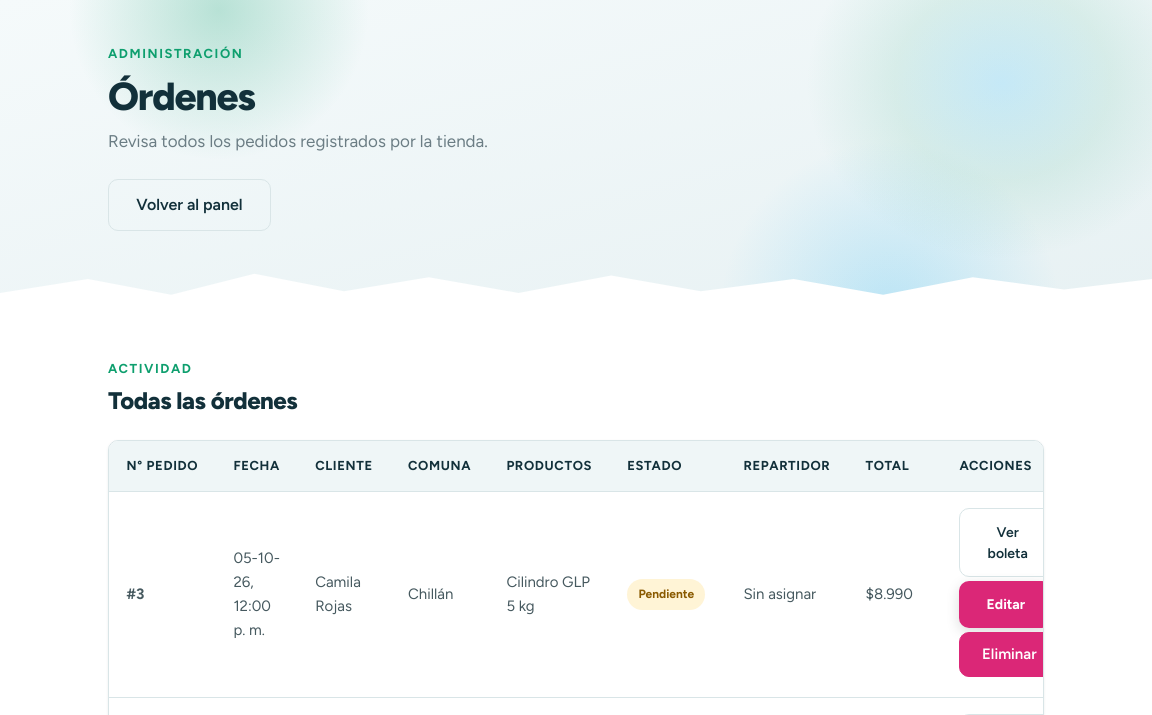
Test: Órdenes del administrador › edita estado y asigna repartidor activo
The width and height of the screenshot is (1152, 715).
Click the button "Editar" at (1006, 605), box 959,581 -> 1052,628
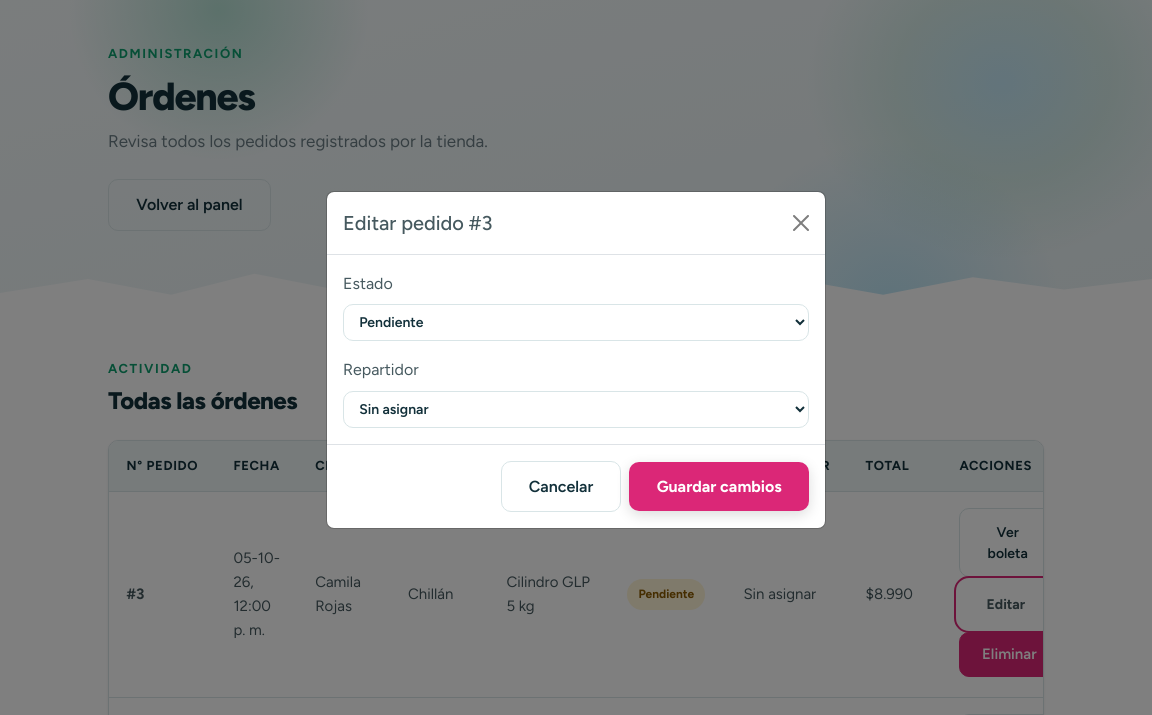
Select "En camino" in the dropdown labelled "Estado" at (576, 323), box 343,304 -> 809,341
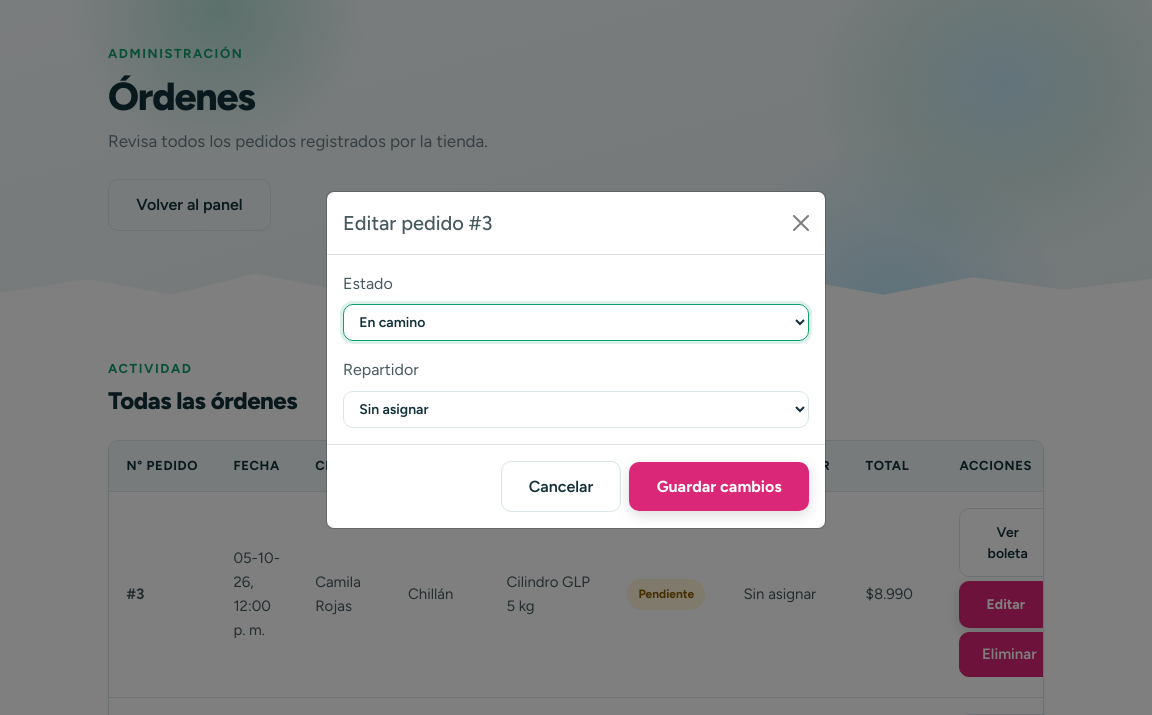
Select "Matías Vera - Repartidor" in the dropdown labelled "Repartidor" at (576, 409), box 343,391 -> 809,428
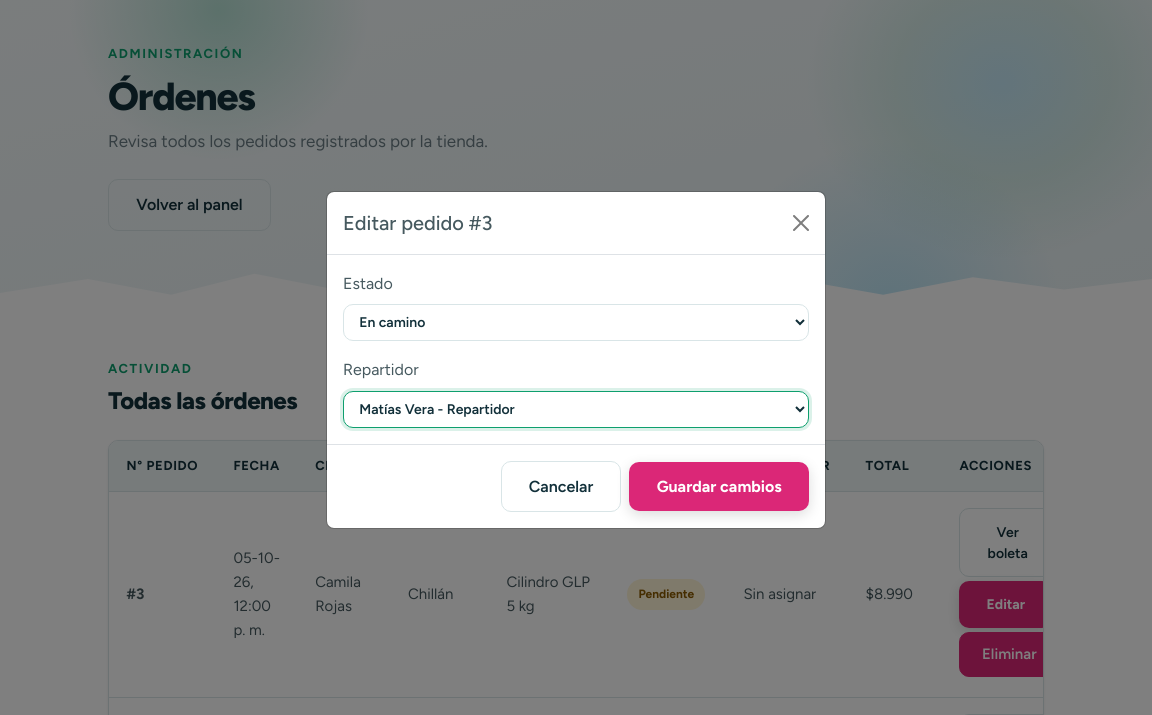
Click the button "Guardar cambios" at (719, 487), box 629,462 -> 809,511
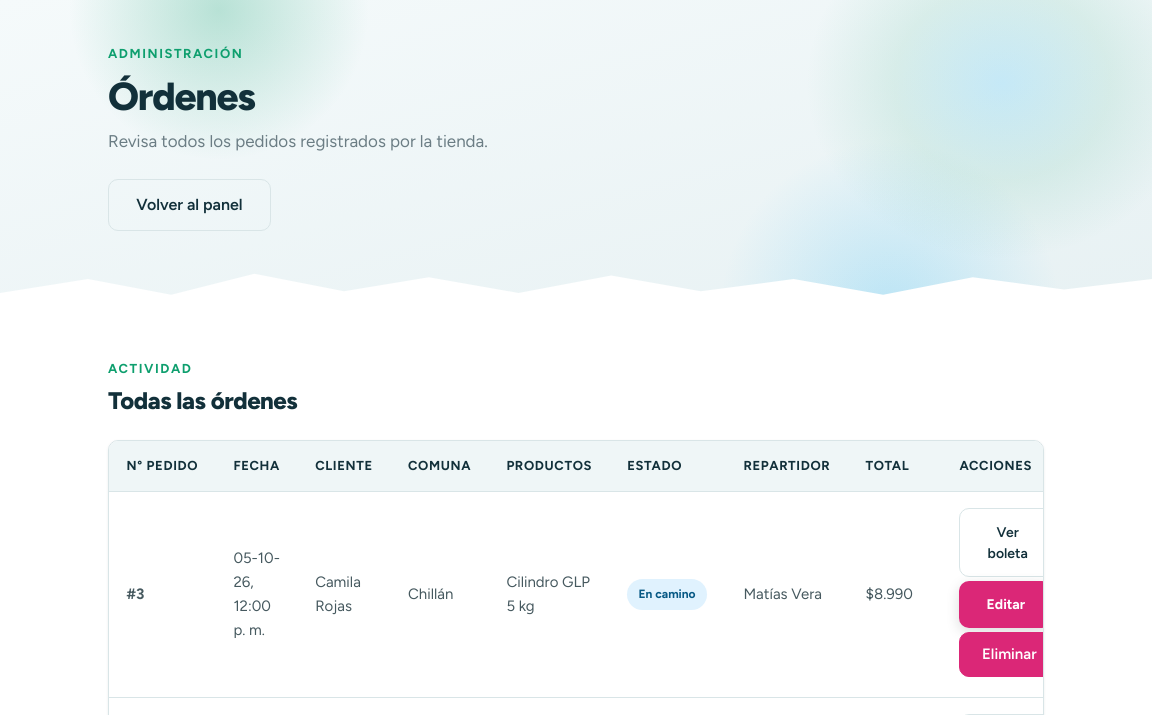
Now the text "Matías Vera" in the row of "05-10-26, 12:00 p. m." is shown, box 743,586 -> 822,604
